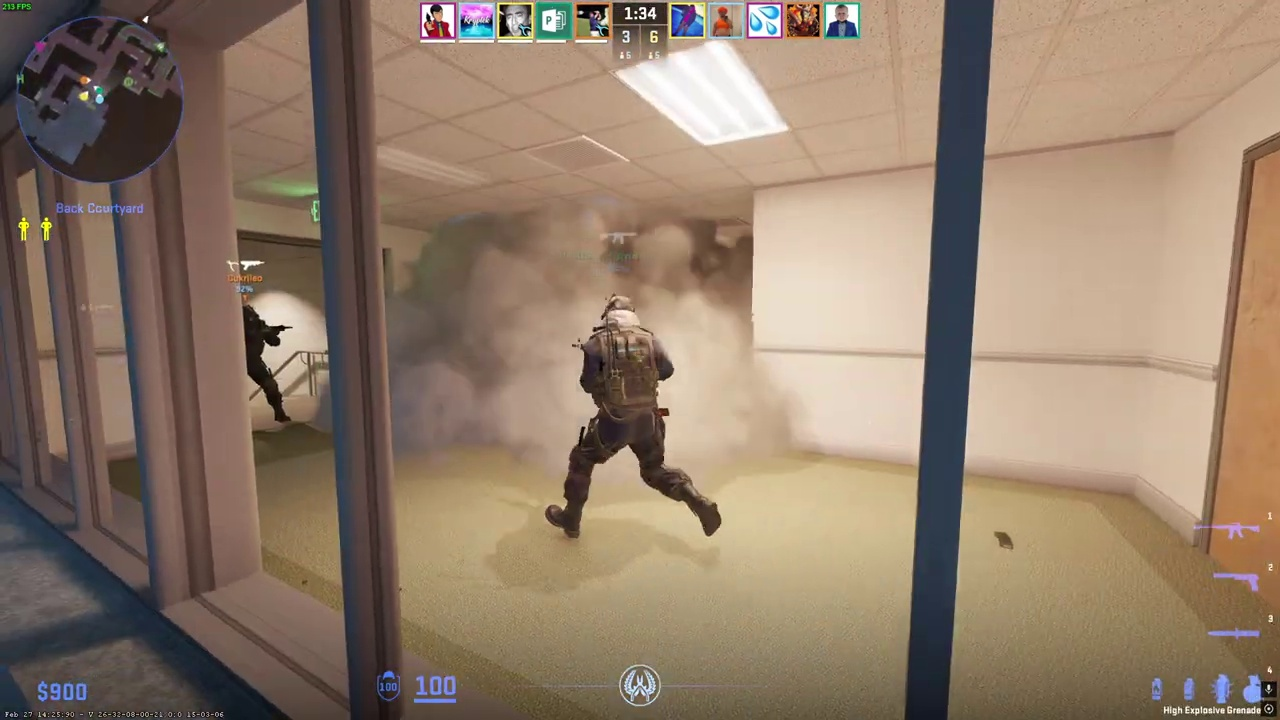CT: (553, 292, 709, 539), (241, 305, 287, 423)
